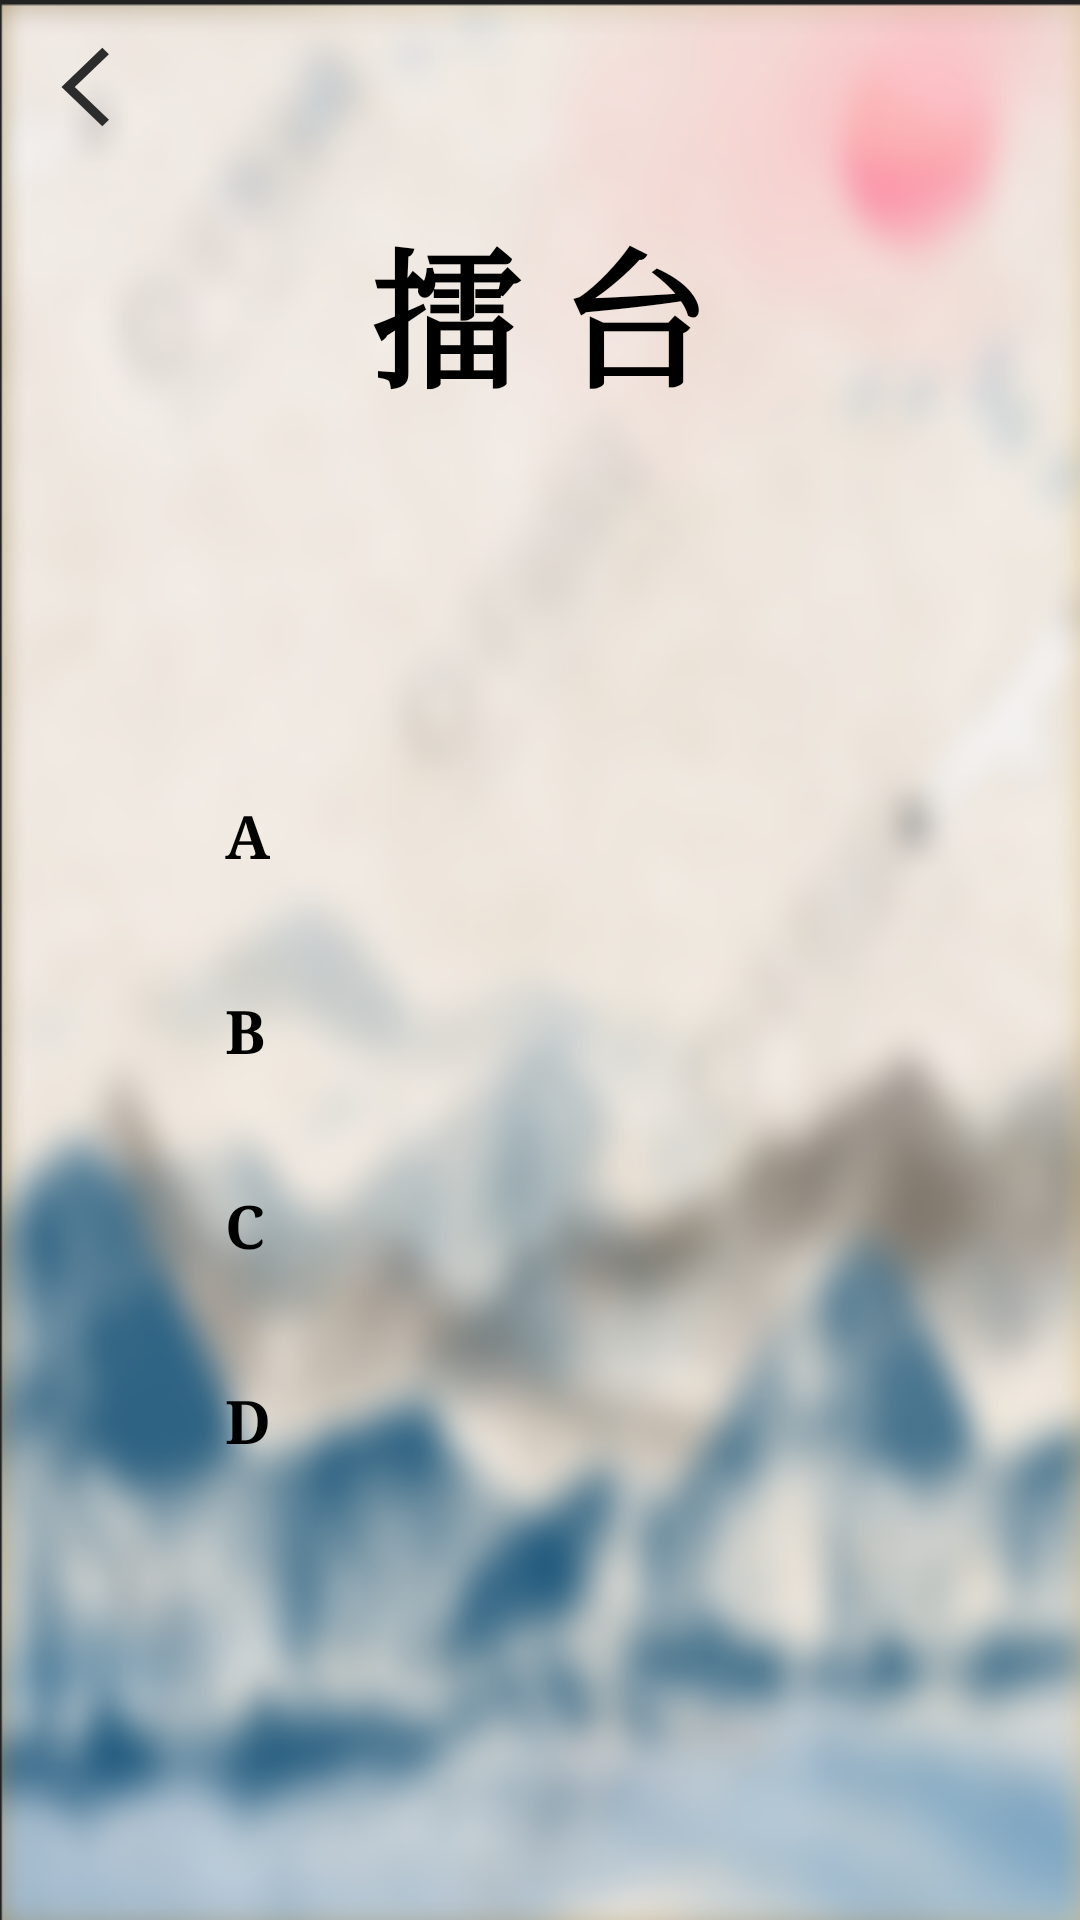

Named icons in this screenshot (1080×1920) and their centers, (x,y):
back: (85,87)
